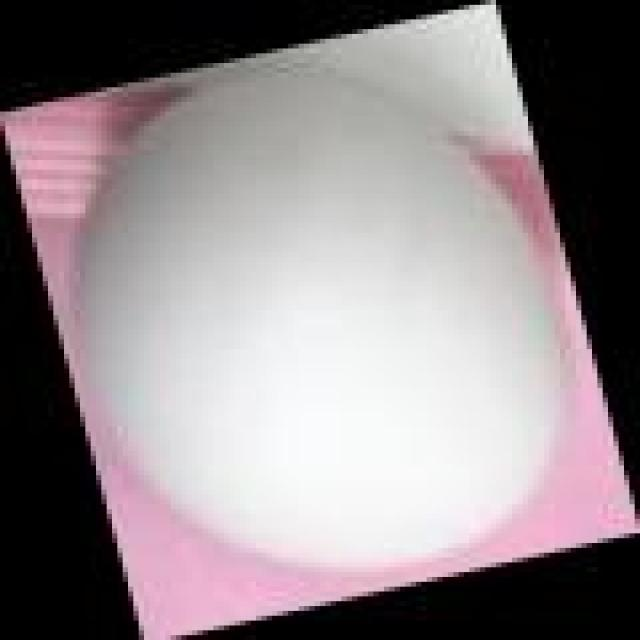Egg: (52, 55, 591, 591)
